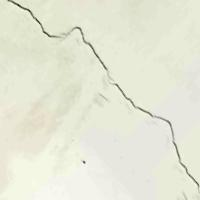crack: (9, 2, 199, 190)
